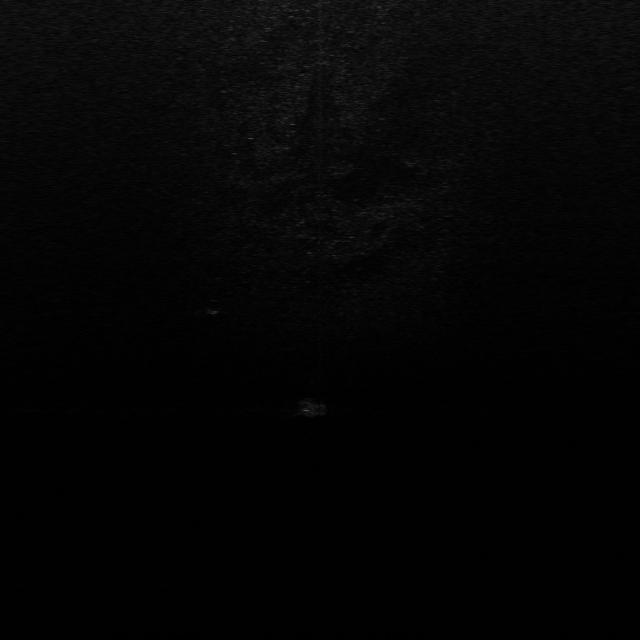ball: (296, 396, 330, 416)
circle cage: (202, 298, 224, 316)
